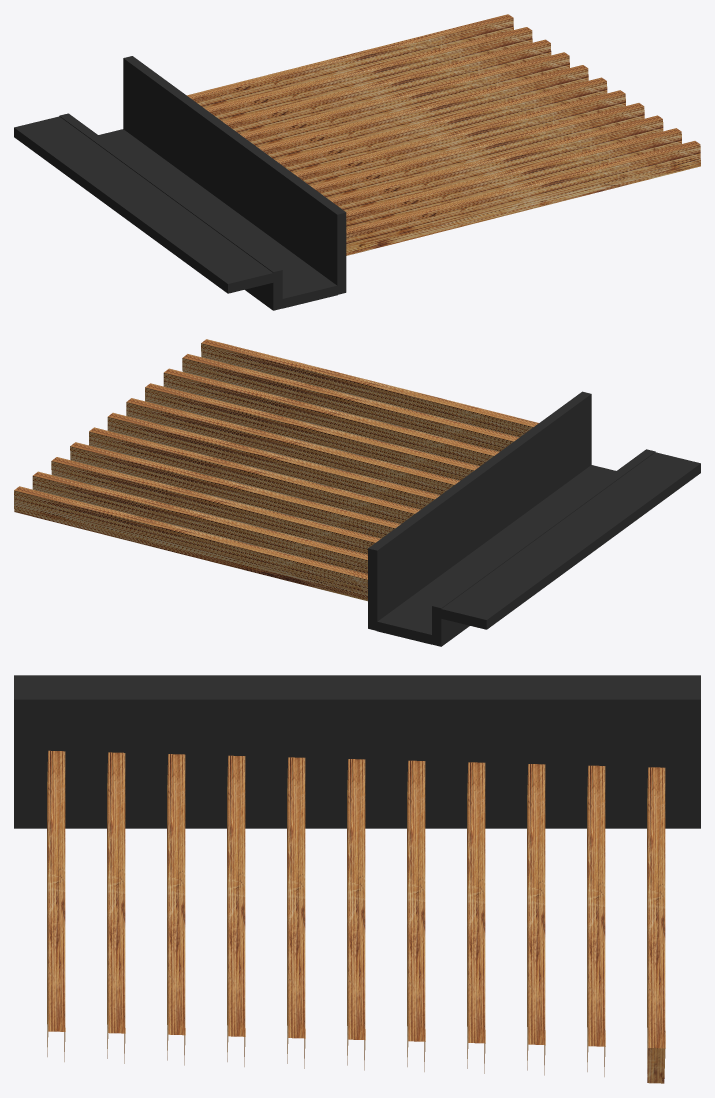
File: naves3.fbx
3 views of the same model, one above another, from view 1: azimuth 30°, elevation 25°; view 2: azimuth 150°, elevation 25°; view 3: azimuth 270°, elevation 25° (orthographic). The views are drawn at different scales.
Visible parts, largest first — view 1: Cube.005; view 2: Cube.005; view 3: Cube.005.
Boxes of the visible parts, bbox=[...] form: Cube.005: bbox=[14, 14, 700, 310]; Cube.005: bbox=[14, 339, 700, 646]; Cube.005: bbox=[14, 675, 700, 1083].
Size of the model in its own units: 2087 by 333 by 1600.
